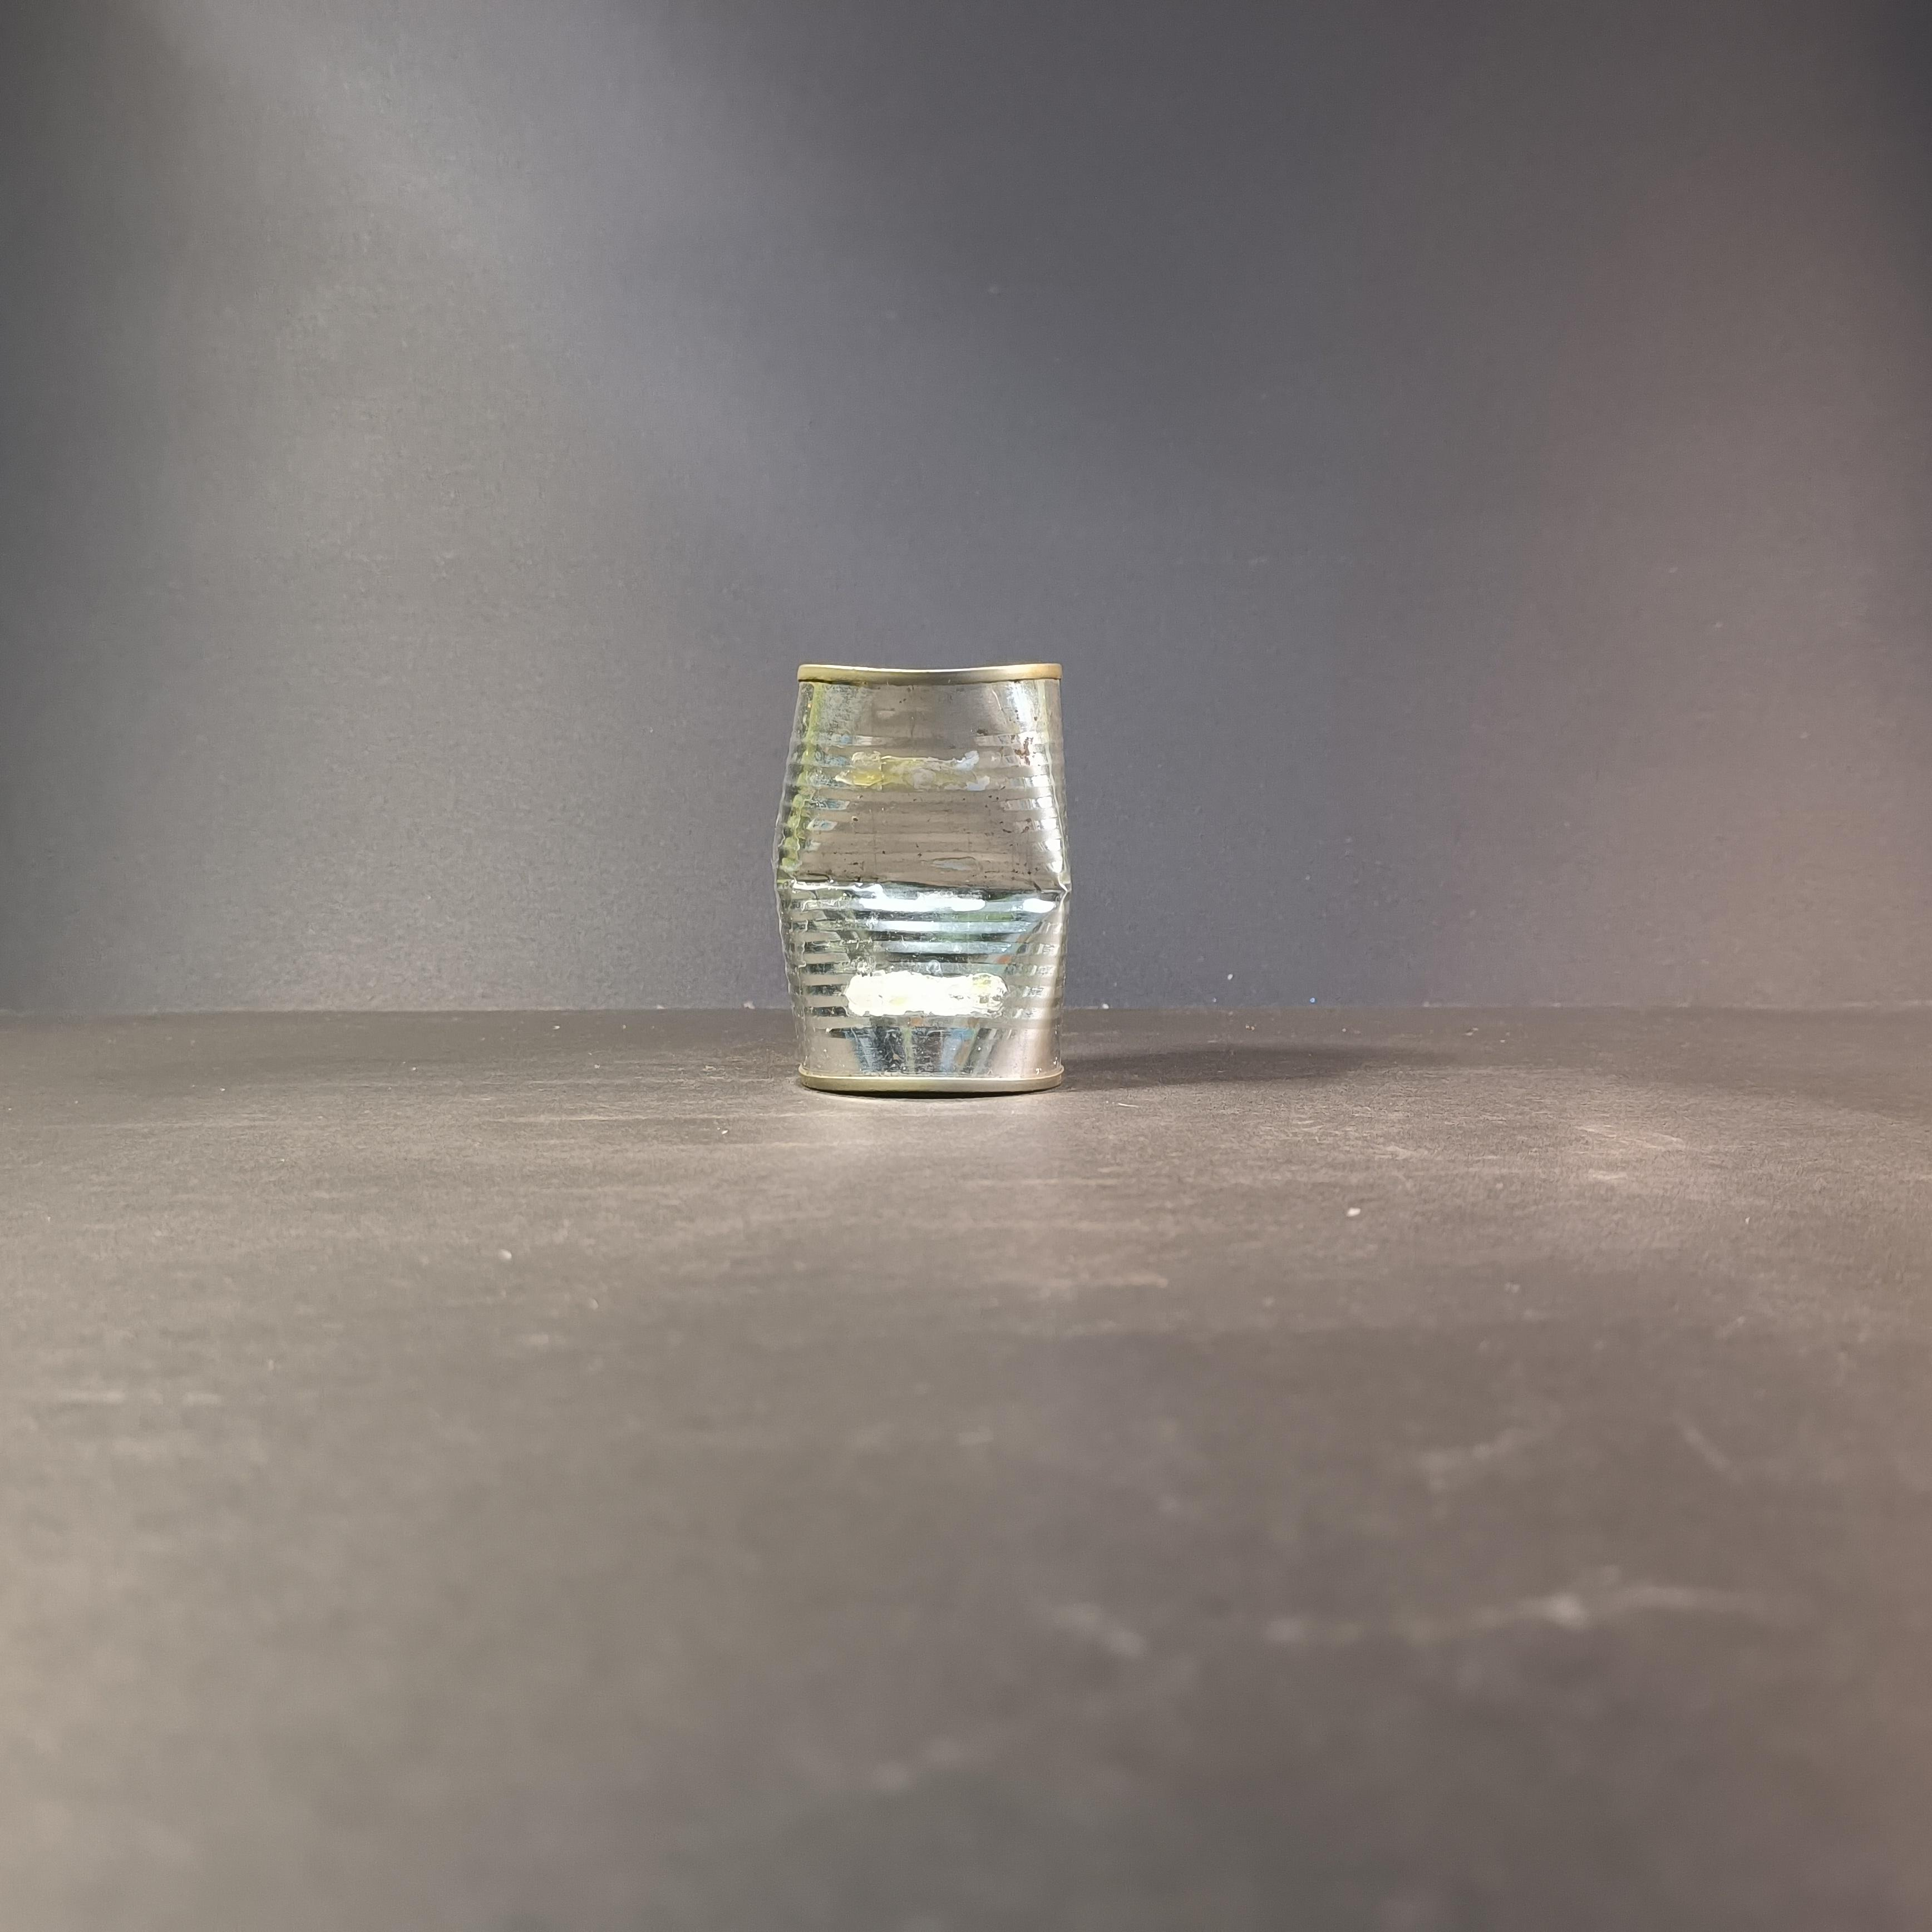Major Defect: (773, 663, 1074, 1093)
